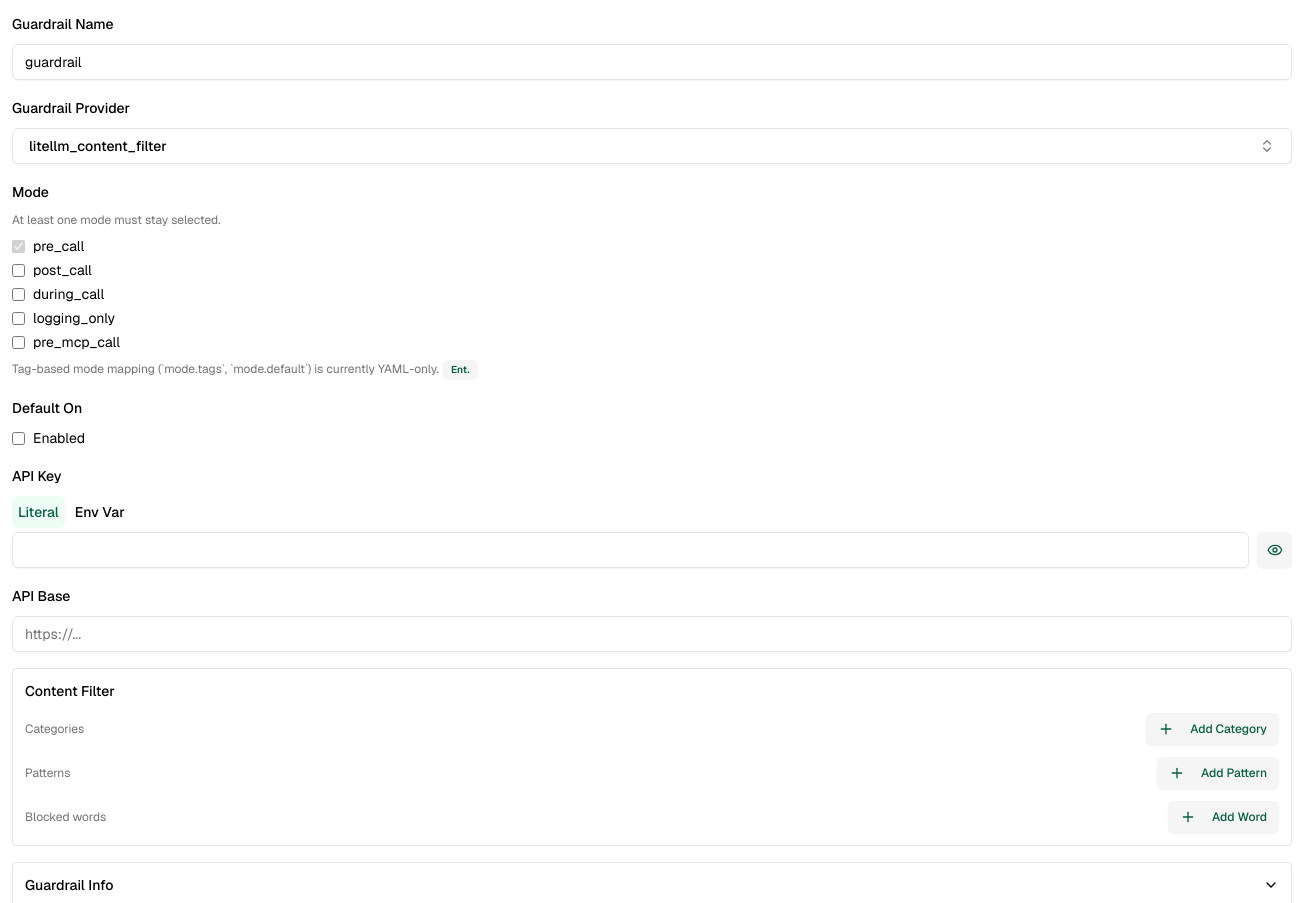
GuardrailForm › requires guardrail name before saving
This screenshot has width=1304, height=903.
Clear the field labelled "Guardrail Name": (652, 62) [12, 44, 1292, 80]
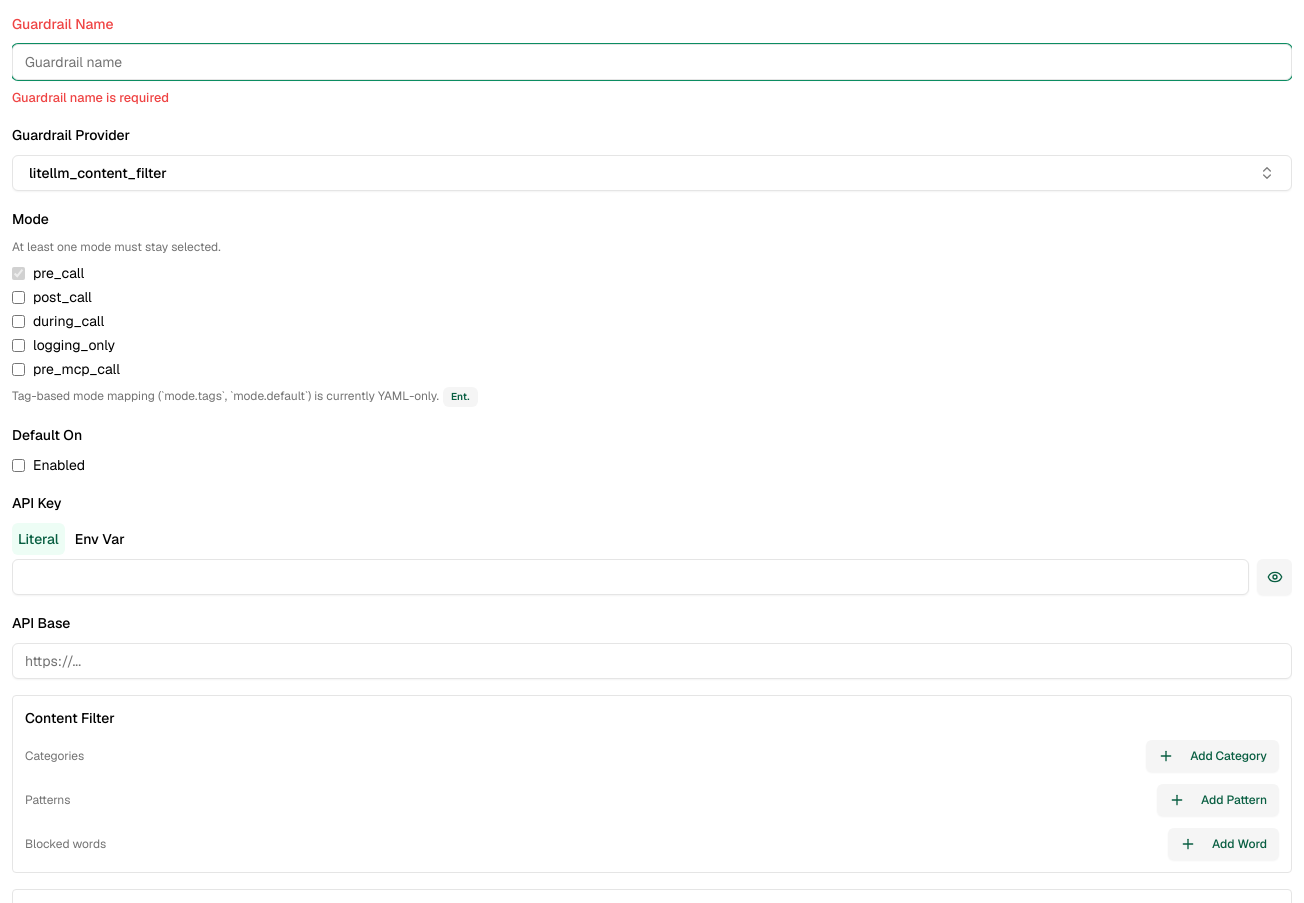
Now the text "Guardrail name is required" is shown, box [12, 89, 169, 106]
